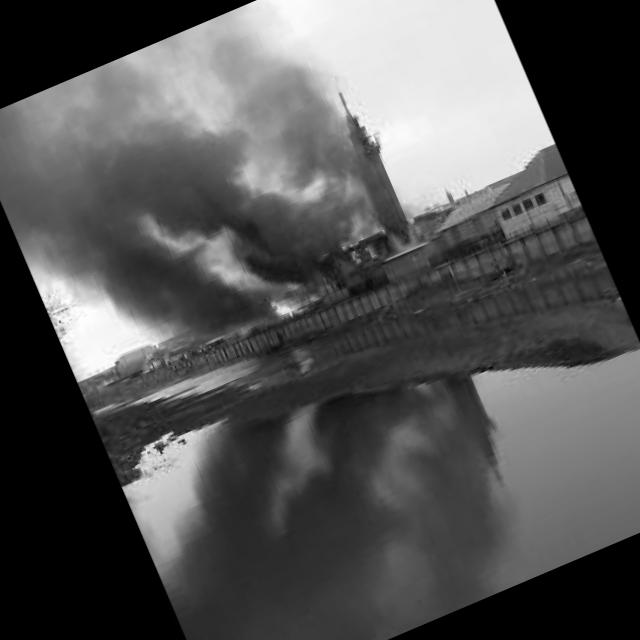fire: (324, 168, 462, 262), (252, 259, 344, 342)
smoke: (38, 24, 414, 368)
